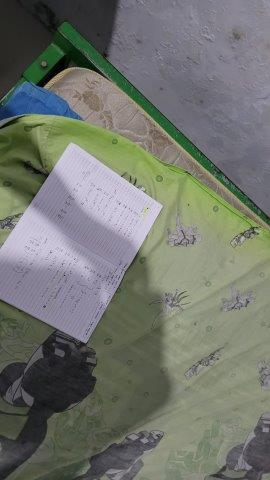kertas: (1, 140, 162, 344)
